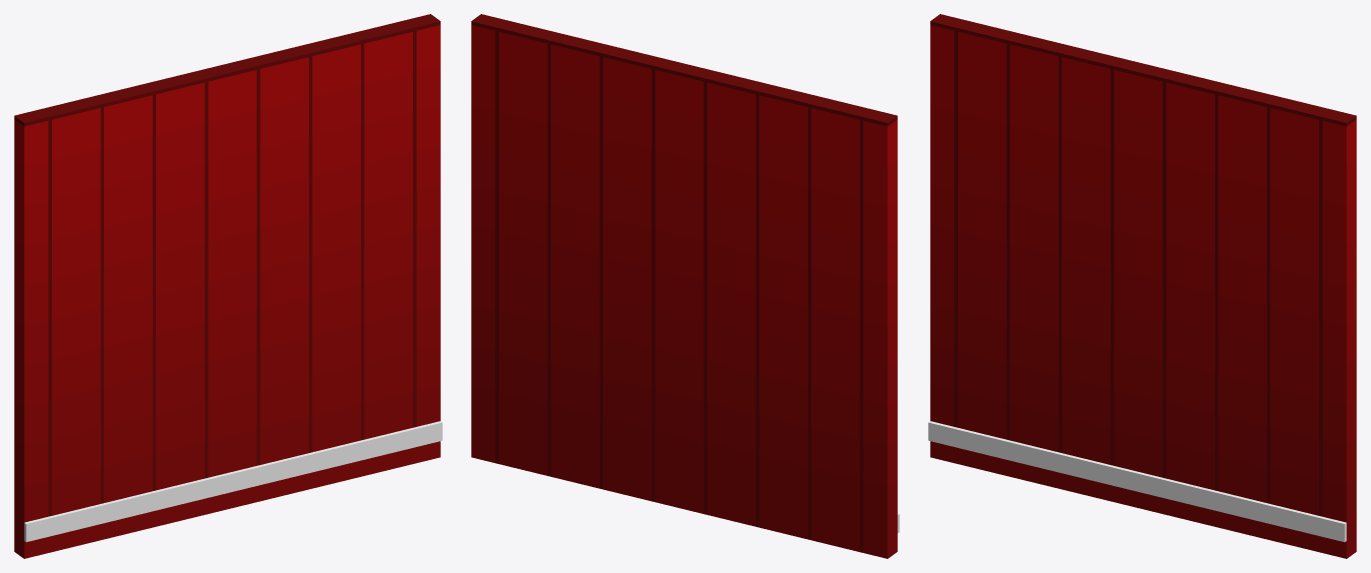
Rendered from wall20.obj.
3 renders of one model, left to right at view 1: azimuth 30°, elevation 25°; view 2: azimuth 150°, elevation 25°; view 3: azimuth 330°, elevation 25°, orthographic.
Bounding box in the file's own units: 12 × 12 × 0.6.
1 material, 1 textured.
